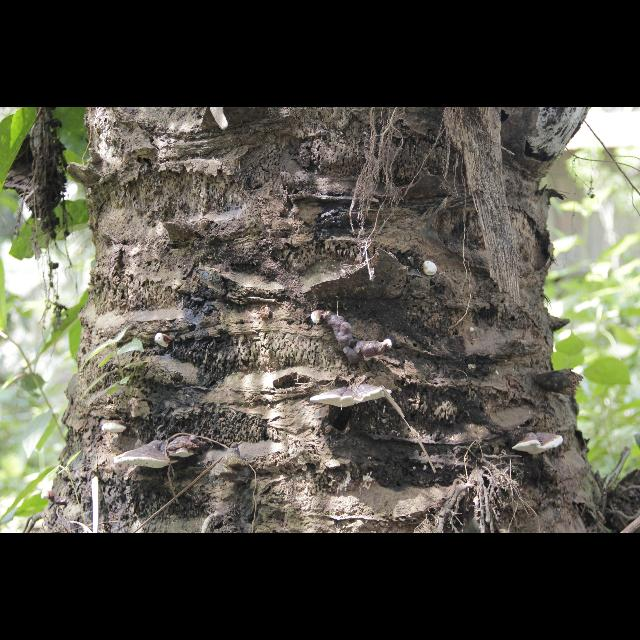ganoderma: (325, 312, 384, 367), (311, 384, 393, 410), (114, 442, 180, 471), (513, 433, 565, 457), (168, 436, 209, 459), (103, 421, 132, 434)
primordium: (156, 334, 172, 350), (424, 262, 439, 278), (312, 311, 325, 326), (42, 492, 58, 503), (384, 341, 393, 352), (471, 328, 476, 334)
